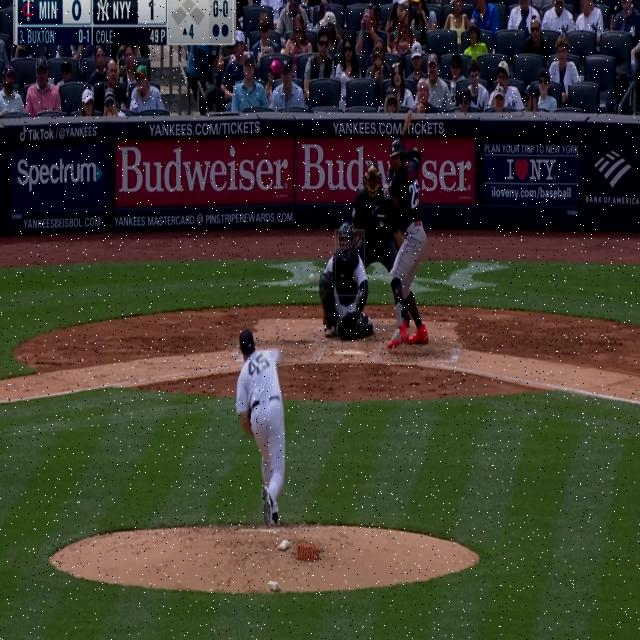baseball: (308, 271, 316, 285)
